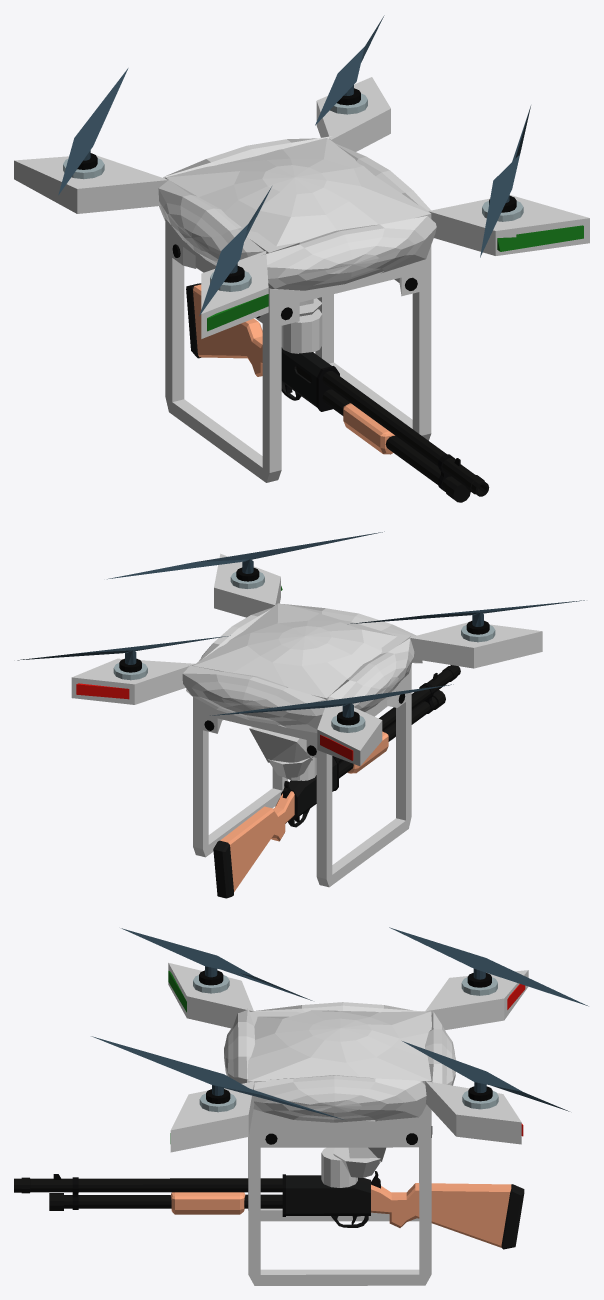
The model's file is DroneShotgun.obj.
3 renders of one model, top to bottom at view 1: azimuth 30°, elevation 25°; view 2: azimuth 150°, elevation 25°; view 3: azimuth 270°, elevation 25°, orthographic. The views are drawn at different scales.
Visible parts, largest first — view 1: group1802215358, Shotgun_3, group2114471358, group2109774117, group1635633909, group992375522, group1506967990, group1472813429, group1351310026, group562219596, group1947824049, group1345748236 (+12 smaller); view 2: group1802215358, Shotgun_3, group1900742671, group1947824049, group1351310026, group992375522, group1635633909, group562219596, group2109774117, group1434348068, group1506967990, group1345748236 (+11 smaller); view 3: Shotgun_3, group1802215358, group1451992339, group1351310026, group1635633909, group2109774117, group1719908566, group1947824049, group1013127126, group1726010505, group1434348068, group1472813429 (+10 smaller).
Part boxes in pixels (bbox=[...]): group1802215358: bbox=[165, 138, 430, 246]; Shotgun_3: bbox=[186, 283, 489, 502]; group2114471358: bbox=[261, 216, 436, 290]; group2109774117: bbox=[14, 155, 168, 213]; group1635633909: bbox=[428, 195, 589, 255]; group992375522: bbox=[158, 180, 264, 265]; group1506967990: bbox=[262, 307, 281, 472]; group1472813429: bbox=[412, 270, 431, 435]; group1351310026: bbox=[316, 77, 390, 151]; group562219596: bbox=[165, 234, 184, 401]; group1947824049: bbox=[201, 251, 268, 338]; group1345748236: bbox=[165, 397, 281, 482]; group1802215358: bbox=[193, 603, 396, 698]; Shotgun_3: bbox=[213, 665, 460, 898]; group1900742671: bbox=[182, 665, 326, 732]; group1947824049: bbox=[409, 622, 542, 668]; group1351310026: bbox=[71, 658, 195, 704]; group992375522: bbox=[329, 638, 414, 711]; group1635633909: bbox=[214, 553, 280, 617]; group562219596: bbox=[316, 742, 332, 878]; group2109774117: bbox=[317, 696, 382, 765]; group1434348068: bbox=[193, 712, 208, 848]; group1506967990: bbox=[396, 682, 411, 820]; group1345748236: bbox=[317, 817, 411, 887]; Shotgun_3: bbox=[14, 1171, 524, 1249]; group1802215358: bbox=[247, 1010, 431, 1081]; group1451992339: bbox=[253, 1075, 426, 1122]; group1351310026: bbox=[425, 1081, 521, 1144]; group1635633909: bbox=[170, 1081, 254, 1152]; group2109774117: bbox=[425, 970, 528, 1030]; group1719908566: bbox=[248, 1269, 430, 1285]; group1947824049: bbox=[168, 962, 253, 1028]; group1013127126: bbox=[260, 1131, 406, 1147]; group1726010505: bbox=[249, 1108, 431, 1130]; group1434348068: bbox=[419, 1131, 431, 1274]; group1472813429: bbox=[248, 1131, 260, 1274].
Bounding box in the file's own units: 0.7691 × 0.42 × 0.9436.
